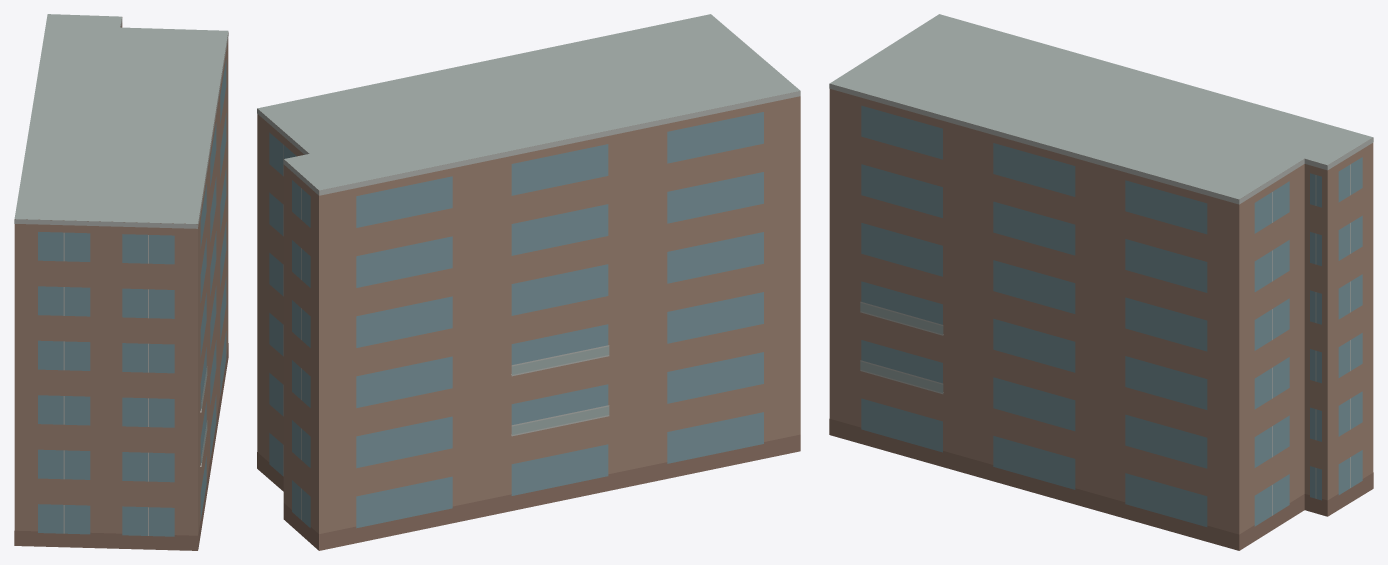
Rendered from survey-upis-33035974.glb.
The picture shows the model from 3 angles, left to right: view 1: azimuth 30°, elevation 25°; view 2: azimuth 150°, elevation 25°; view 3: azimuth 270°, elevation 25°; orthographic projection. The views are drawn at different scales.
Parts seen in each view (by area): view 1: survey-upis-33035974.tmp; view 2: survey-upis-33035974.tmp; view 3: survey-upis-33035974.tmp.
Boxes of the visible parts, x1,y1,x2,y2 form: survey-upis-33035974.tmp: (14,14,228,550); survey-upis-33035974.tmp: (257,14,800,550); survey-upis-33035974.tmp: (829,14,1373,550).
Size of the model in its own units: 19.03 by 16.8 by 23.58.
